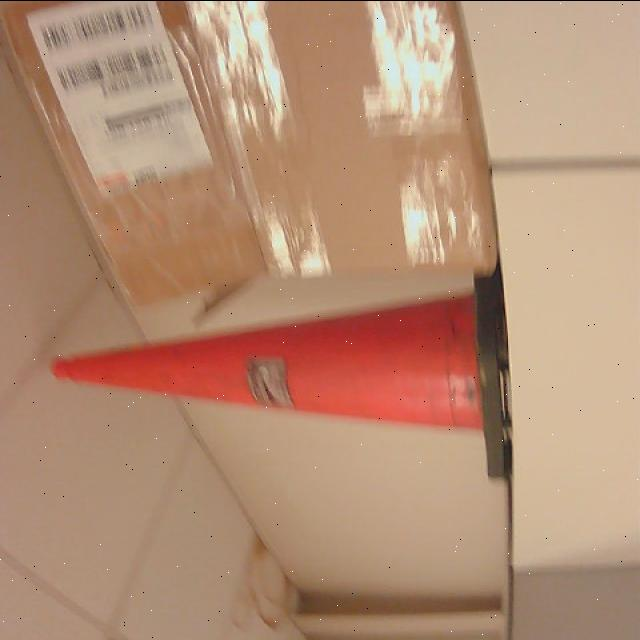traffic cone: (53, 273, 510, 481)
